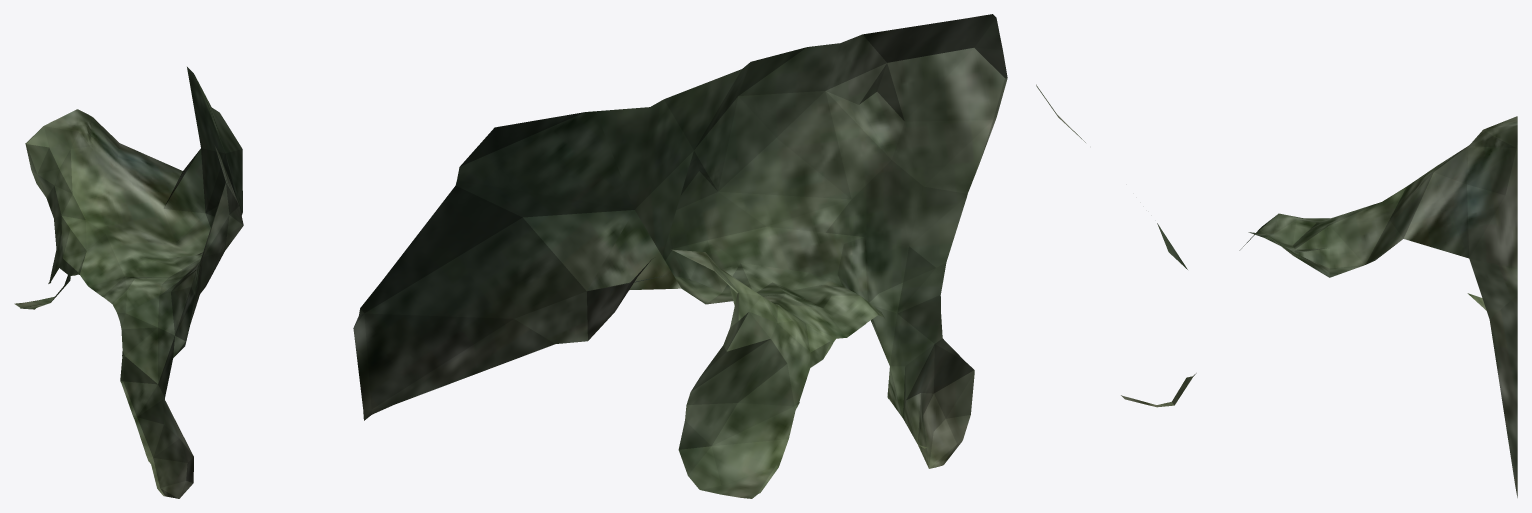
3 renders of one model, left to right at view 1: azimuth 30°, elevation 25°; view 2: azimuth 150°, elevation 25°; view 3: azimuth 270°, elevation 25°, orthographic. The views are drawn at different scales.
Size of the model in its own units: 1.94 by 1.94 by 2.16.
1 material, 1 textured.
